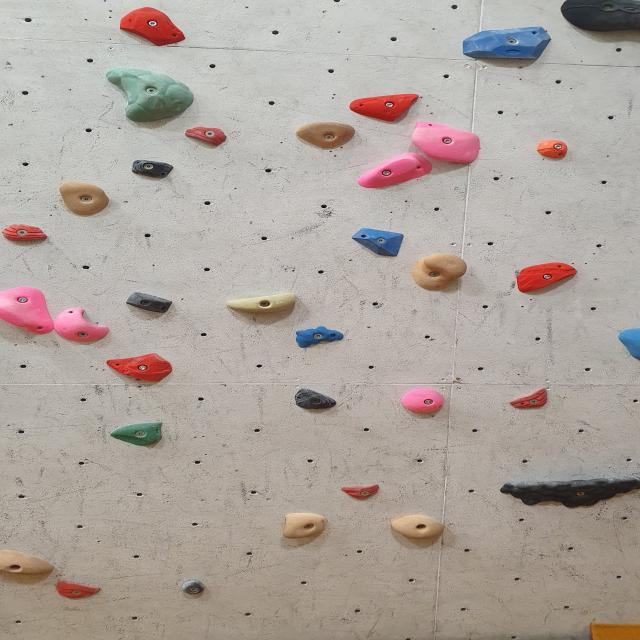Crimp: (462, 26, 548, 60), (354, 152, 427, 190), (118, 7, 184, 48), (351, 93, 424, 119), (109, 352, 171, 382), (516, 262, 571, 293), (289, 389, 340, 411), (51, 580, 100, 602), (182, 124, 226, 145), (336, 482, 384, 498), (512, 388, 548, 409), (4, 224, 45, 242)
Jug: (495, 474, 640, 510), (405, 123, 479, 166), (408, 254, 464, 291), (290, 120, 359, 150), (388, 513, 447, 541), (54, 310, 104, 343), (61, 184, 106, 215), (282, 509, 328, 538)
Pinch: (227, 291, 300, 317), (0, 548, 55, 576), (121, 291, 169, 316), (401, 389, 442, 414), (128, 159, 170, 178), (535, 138, 567, 160), (179, 581, 203, 594)
Sloper: (104, 67, 188, 124), (557, 0, 639, 35), (0, 286, 53, 337), (352, 226, 403, 258), (112, 423, 168, 446), (290, 325, 341, 347), (618, 326, 640, 360)
